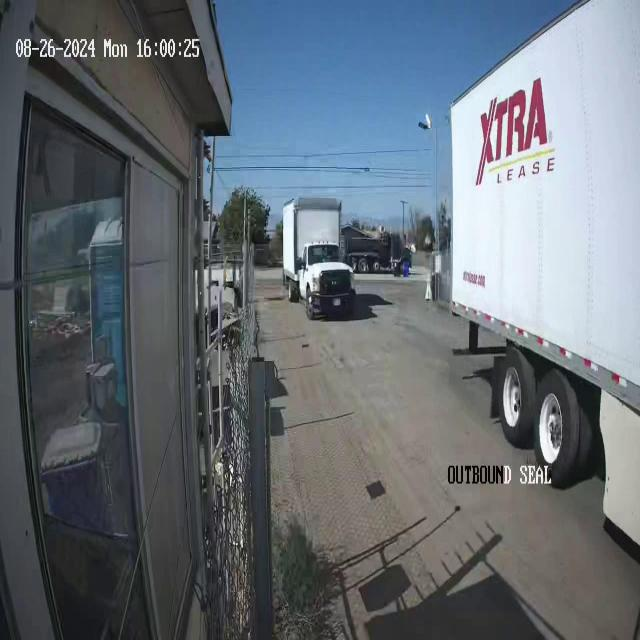TRUCK_IN: (445, 0, 640, 549)
